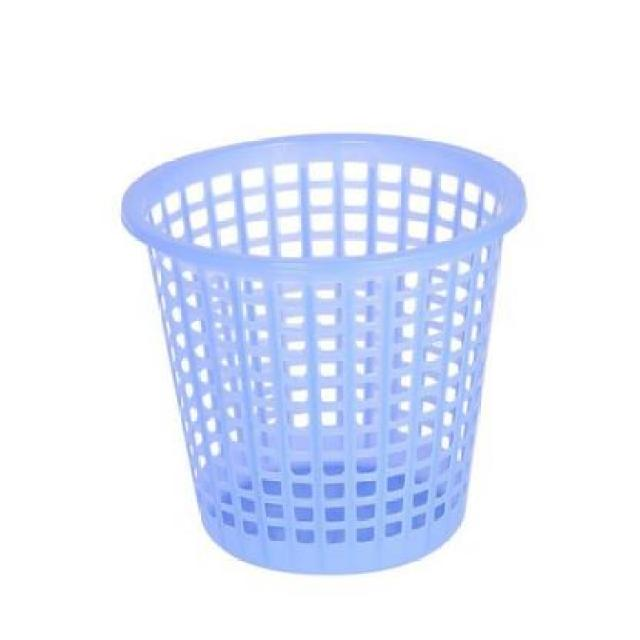dustbin: (118, 127, 531, 578)
